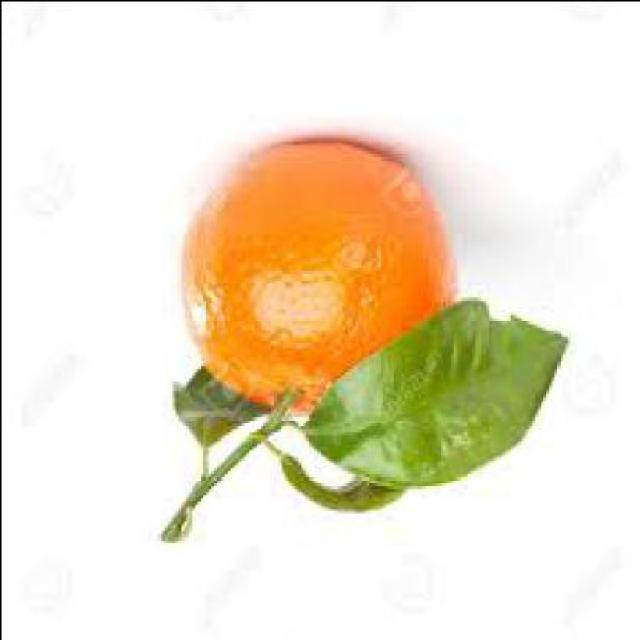BIODEGRADABLE: (186, 138, 454, 409), (306, 300, 566, 487), (160, 393, 293, 542), (265, 442, 404, 511), (174, 366, 269, 447), (203, 447, 209, 474)
